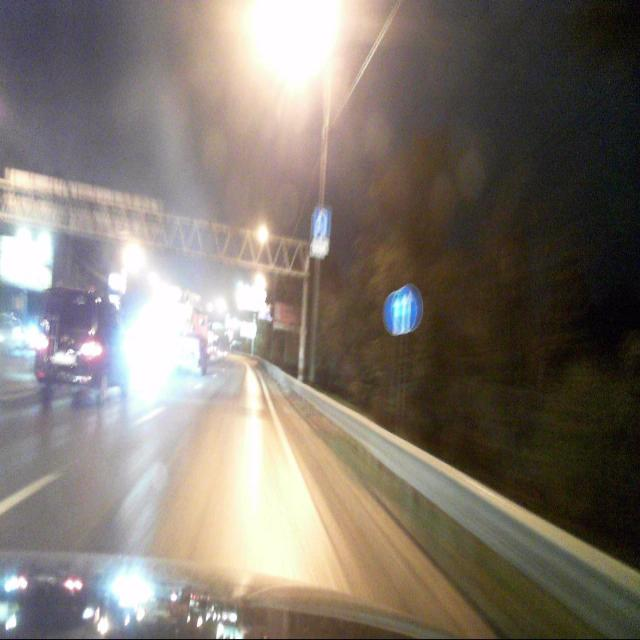road sign: (314, 206, 330, 238)
